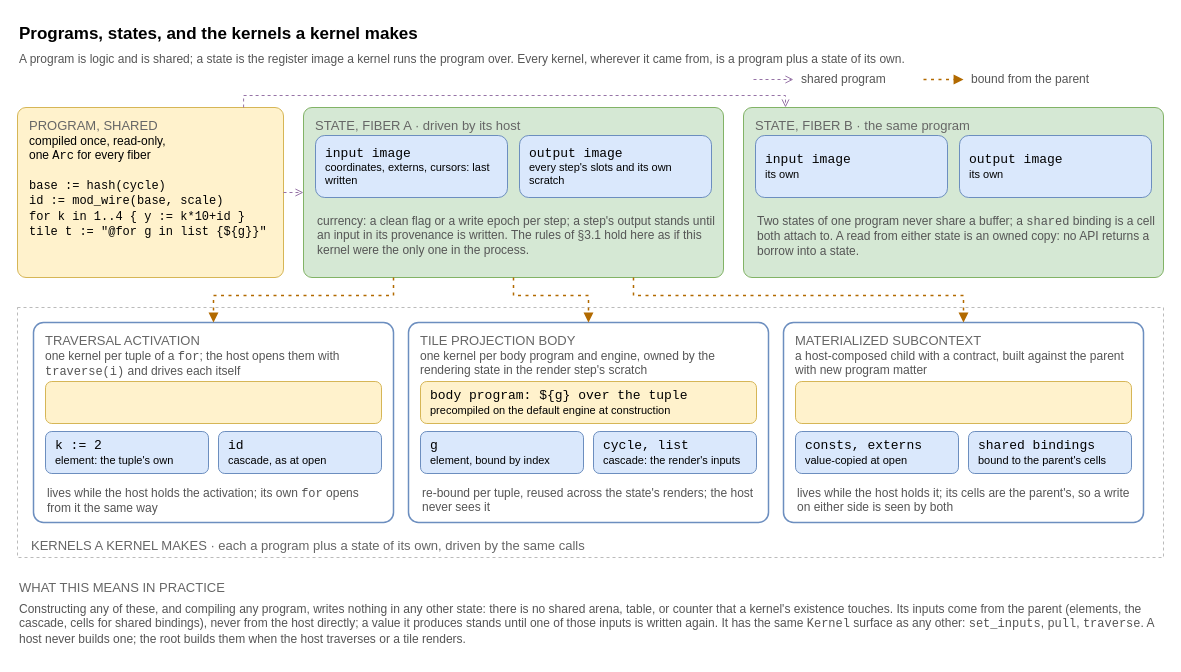
Image size: 1181x672. Some labels were removed from this diagram. The centre of each missing label's shape, as x and y in pixels:
body program: y := k * 10 + id one program per engine per lexical position: [213,402]
child program interpreter only, today: [963,402]
